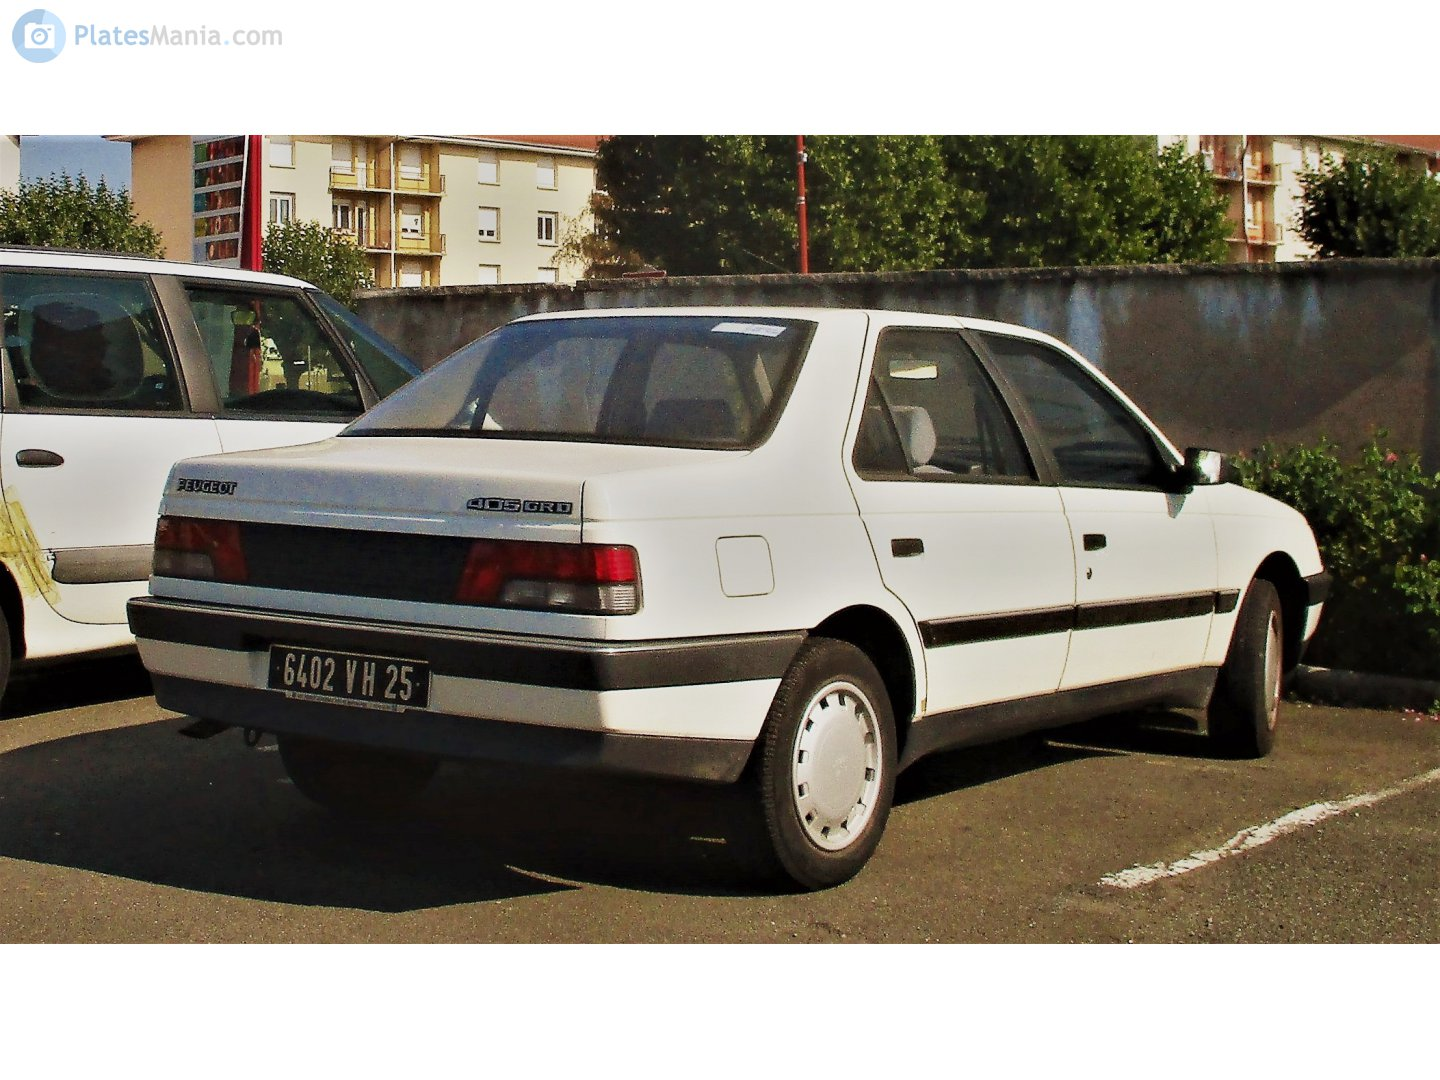licence plate: (266, 638, 434, 715)
